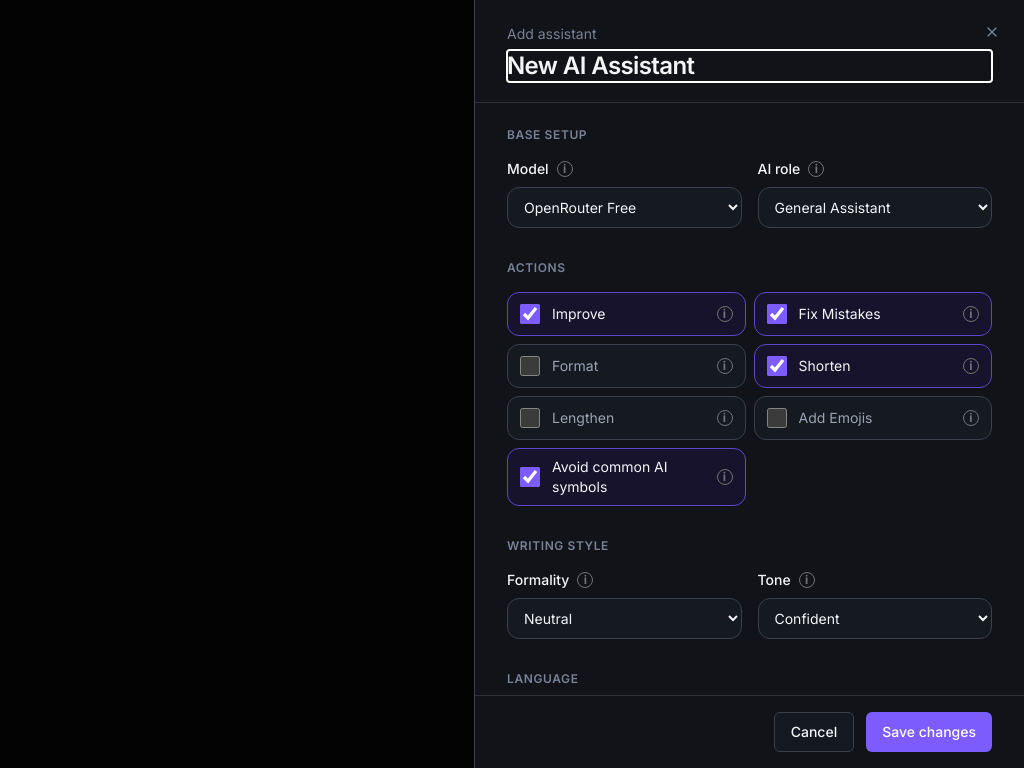
Test: ConfigEditorModal Integration Tests › Mutual exclusivity - Shorten/Lengthen › should uncheck shorten when lengthen is checked
This screenshot has width=1024, height=768.
Expected: the checkbox labelled "Shorten" is checked, left=766, top=356, right=786, bottom=376
Click the checkbox labelled "Lengthen" at (530, 418), box left=520, top=408, right=540, bottom=428
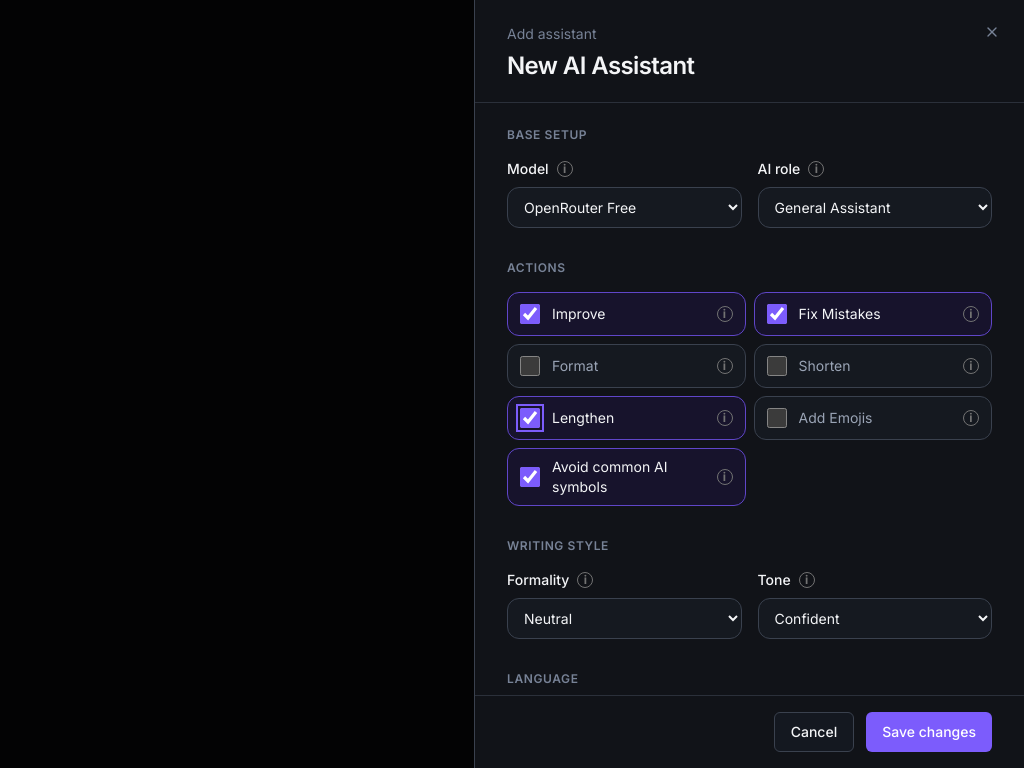
Now the checkbox labelled "Lengthen" is checked, box left=520, top=408, right=540, bottom=428
Now the checkbox labelled "Shorten" is not checked, box left=766, top=356, right=786, bottom=376
